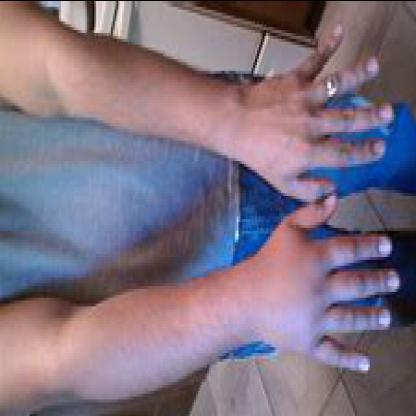Wasp: (87, 291, 194, 393), (256, 230, 322, 352)
